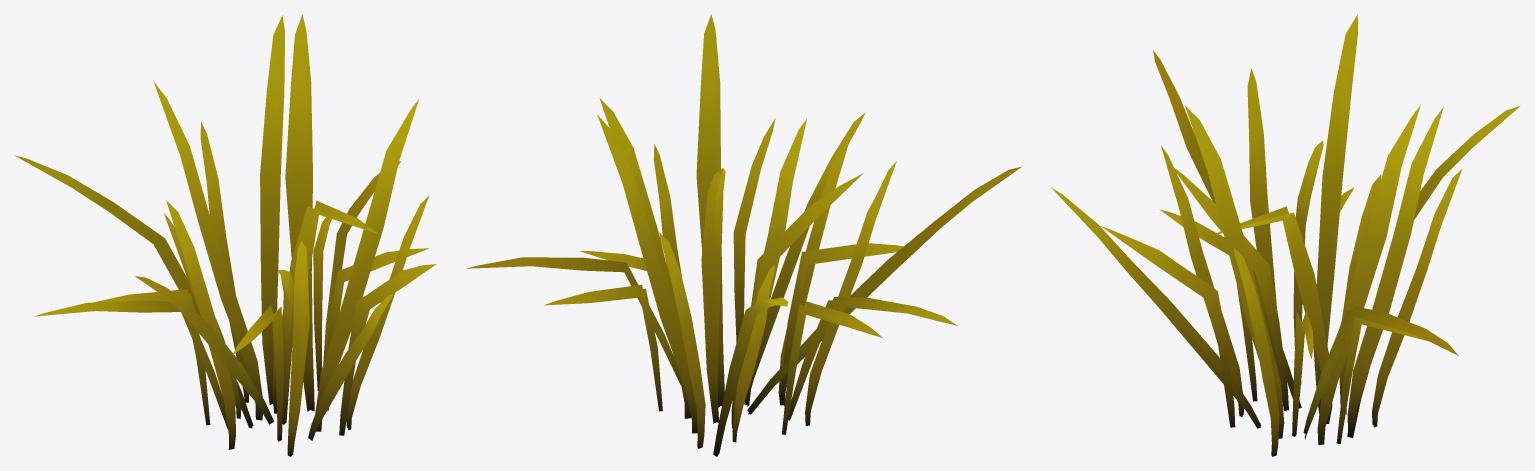
The model's file is grass_wispy_short.glb.
3 renders of one model, left to right at view 1: azimuth 30°, elevation 25°; view 2: azimuth 150°, elevation 25°; view 3: azimuth 270°, elevation 25°, orthographic. The views are drawn at different scales.
Visible parts, largest first — view 1: Grass_Wispy_Short; view 2: Grass_Wispy_Short; view 3: Grass_Wispy_Short.
Boxes of the visible parts, x1=… form: Grass_Wispy_Short: x1=15, y1=14, x2=436, y2=456; Grass_Wispy_Short: x1=466, y1=14, x2=1021, y2=456; Grass_Wispy_Short: x1=1052, y1=14, x2=1519, y2=456.
Size of the model in its own units: 1.32 by 1.07 by 1.21.
Materials: 1 (1 with a texture image).
